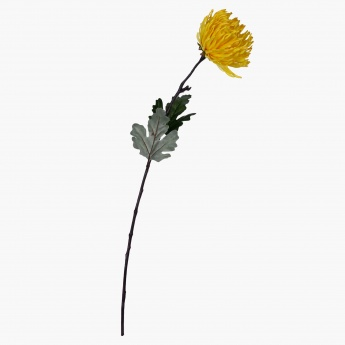dandelion: (198, 9, 259, 77)
